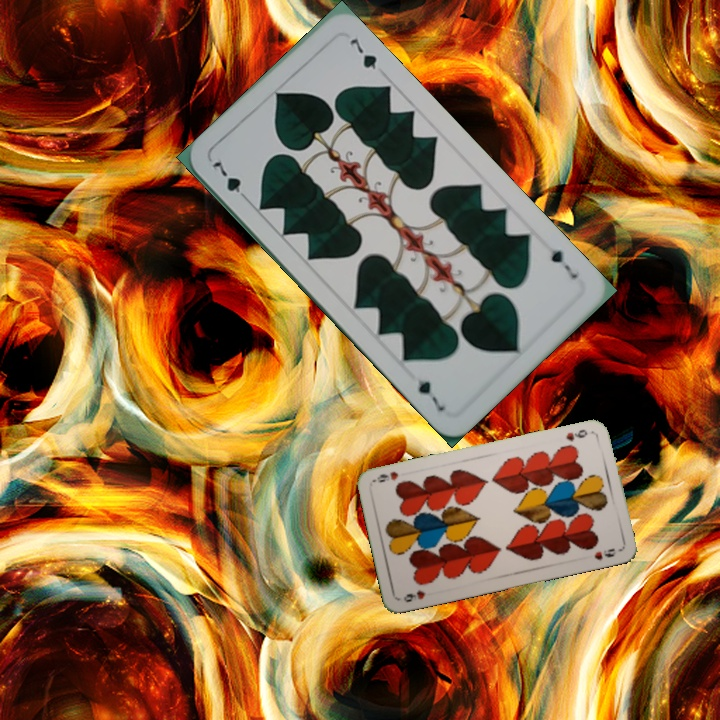G7: (208, 157, 253, 205), (546, 245, 581, 282)
H9: (399, 586, 428, 605), (562, 425, 590, 444)
